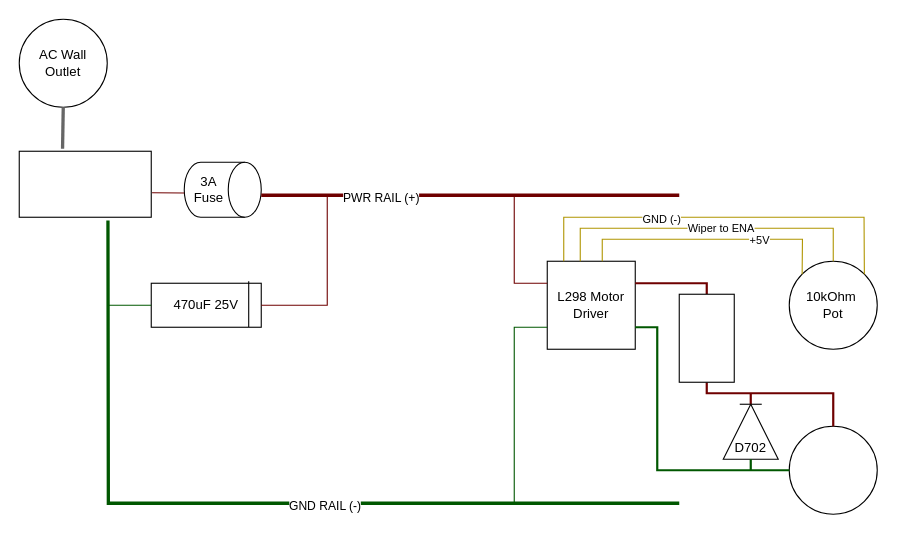
Some shapes in this 897 by 534 pixel diagram are drawn without their labels. Each missing label, with the centre of its shape:
"775 Motor 12V 6000RPM" goes at (832,469).
"DC Power Supply" goes at (84,183).
"NTC 5D-11 (5Ohm)" goes at (706,337).
